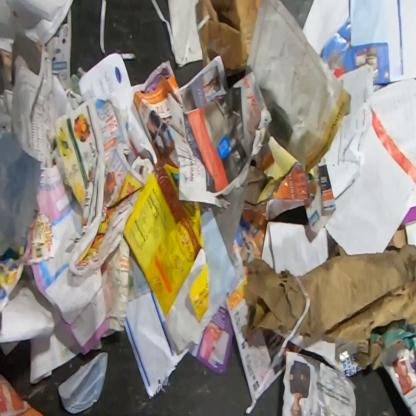cardboard: (239, 227, 415, 342), (123, 143, 203, 318), (195, 0, 264, 77), (355, 321, 415, 372)
rigid_plastic: (58, 352, 108, 414)
soft_plastic: (0, 132, 42, 257)
